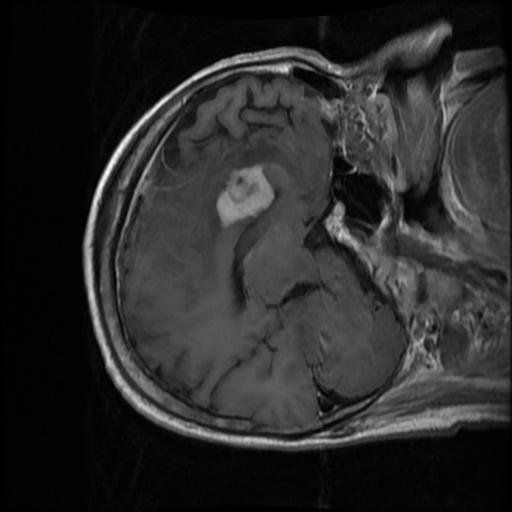glioma: (215, 162, 274, 228)
